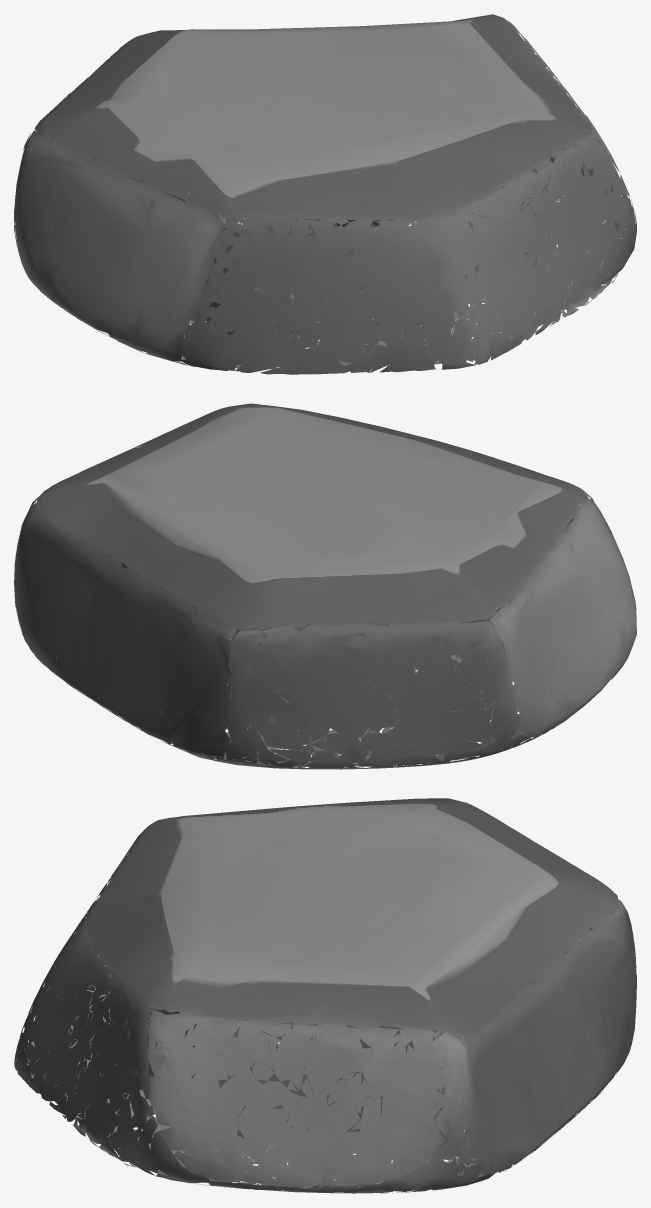
Rendered from rock.glb.
The picture shows the model from 3 angles, top to bottom: view 1: azimuth 30°, elevation 25°; view 2: azimuth 150°, elevation 25°; view 3: azimuth 270°, elevation 25°; orthographic projection. The views are drawn at different scales.
Bounding box in the file's own units: 0.1502 × 0.0501 × 0.1464.
Materials: 1 (1 with a texture image).
